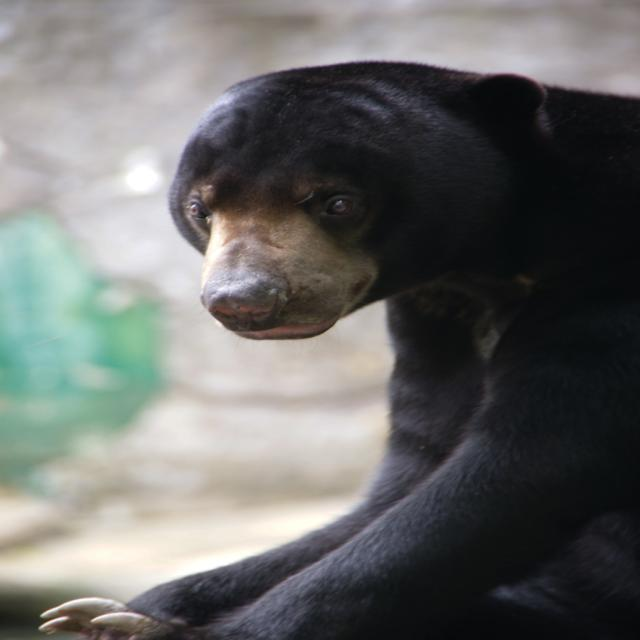Buffalo: (34, 58, 639, 640)
